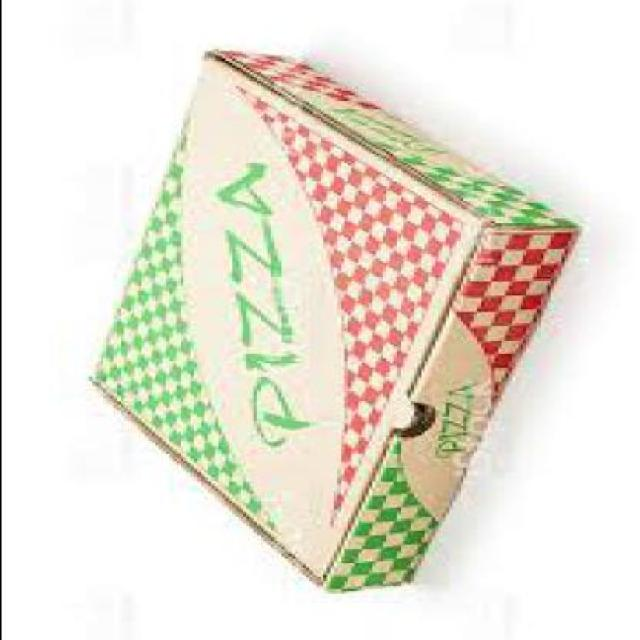CARDBOARD: (85, 52, 577, 596)
